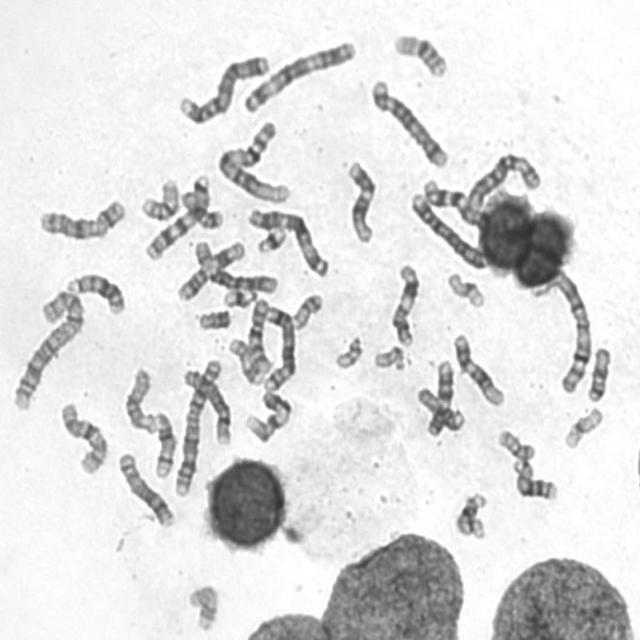A1: (214, 117, 292, 205), (541, 266, 593, 396)
A2: (7, 285, 86, 413), (170, 354, 225, 499)
A3: (239, 36, 358, 115), (245, 203, 331, 280)
B4: (175, 50, 272, 126), (407, 189, 488, 272)
B5: (367, 74, 451, 170), (260, 302, 299, 392)
C10: (55, 397, 110, 477), (244, 293, 272, 372)
C11: (173, 237, 247, 304), (388, 260, 421, 348)
C12: (449, 329, 506, 408), (344, 156, 378, 245)
C6: (191, 237, 279, 296), (464, 148, 544, 212)
C7: (142, 170, 214, 262), (422, 178, 490, 231)
C8: (114, 448, 177, 529), (178, 363, 233, 448)
C9: (241, 388, 294, 445), (422, 356, 456, 439)
D13: (61, 270, 127, 317), (509, 454, 560, 502)
D14: (148, 406, 177, 479), (451, 488, 490, 541)
D15: (120, 362, 158, 437), (413, 383, 466, 433)
E16: (390, 29, 449, 80), (137, 174, 181, 222)
E17: (225, 334, 268, 387), (184, 580, 221, 633)
E18: (178, 186, 225, 230), (584, 343, 613, 404)
F19: (560, 403, 605, 451), (443, 269, 488, 310)
F20: (493, 425, 538, 461), (290, 288, 324, 330)
G21: (253, 223, 289, 255), (218, 285, 258, 310)
G22: (331, 332, 364, 371), (370, 342, 406, 372)
X: (35, 195, 127, 243)
Y: (195, 306, 233, 332)
